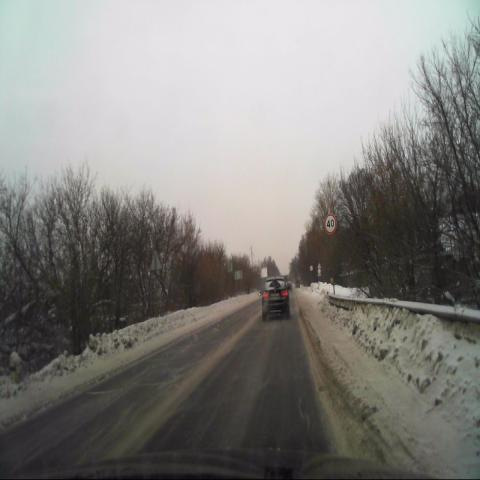3_24: (324, 213, 336, 234)
